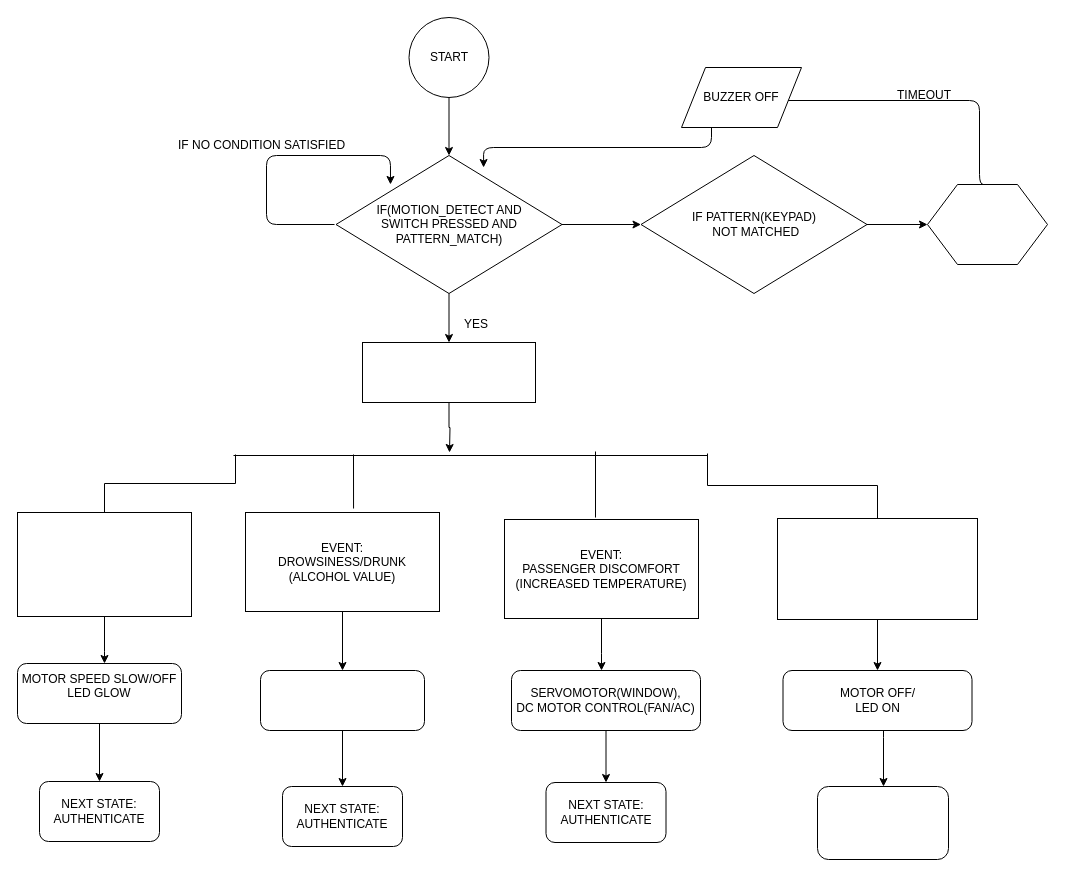
Image size: 1065x877. Some labels were removed from this diagram. Here are the shapes that lost their labels. From the top down, the centre of each, then its label:
At [987,224]: "TURN THE BUZZER ON".
At [449,372]: "STATE:AUTHENTICATED (TURN ON MOTOR)".
At [104,564]: "EVENT: COLLISION AVOIDANCE (ULTRASONIC)".
At [877,569]: "EVENT: ACCIDENT (REPORTED FROM REMOTE NODE)".
At [342,700]: "BUZZER ON".
At [882,823]: "GENERATE LOG AND SYSTEM SHUTDOWN".
